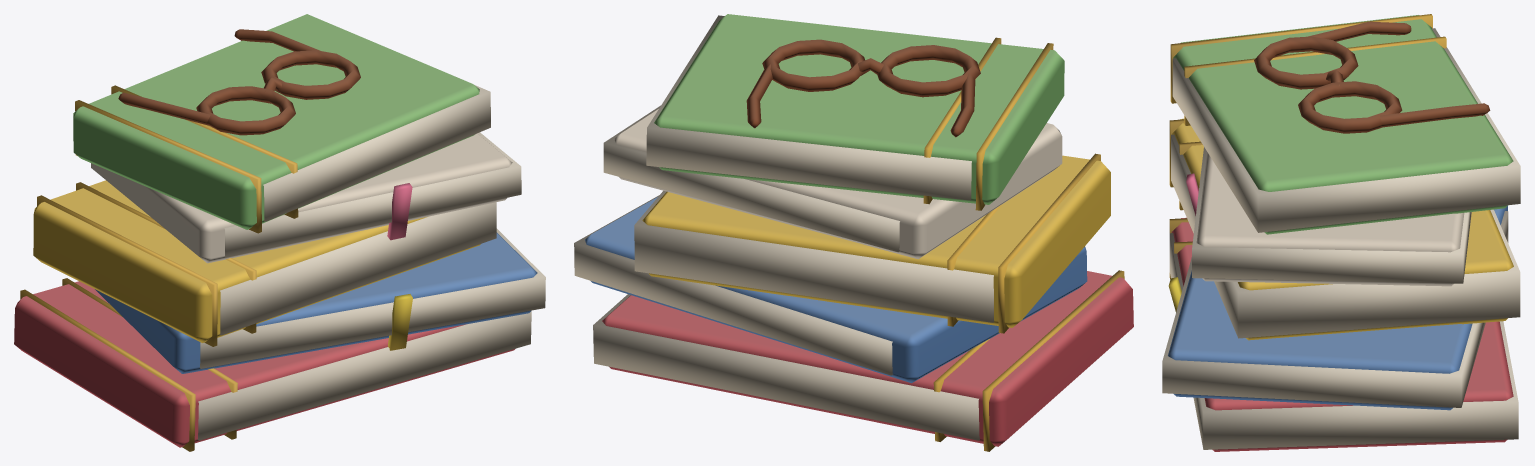
The model's file is furn-bookStack.glb.
The picture shows the model from 3 angles, left to right: view 1: azimuth 30°, elevation 25°; view 2: azimuth 150°, elevation 25°; view 3: azimuth 270°, elevation 25°; orthographic projection. The views are drawn at different scales.
Visible parts, largest first — view 1: furn-bookStack; view 2: furn-bookStack; view 3: furn-bookStack.
Boxes of the visible parts, bbox=[...] form: furn-bookStack: bbox=[14, 14, 545, 451]; furn-bookStack: bbox=[574, 14, 1133, 451]; furn-bookStack: bbox=[1162, 14, 1520, 451].
Bounding box in the file's own units: 0.3373 × 0.2153 × 0.2414.
